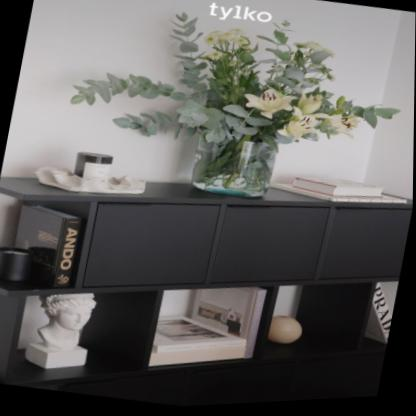Sideboard: (0, 113, 414, 416)
